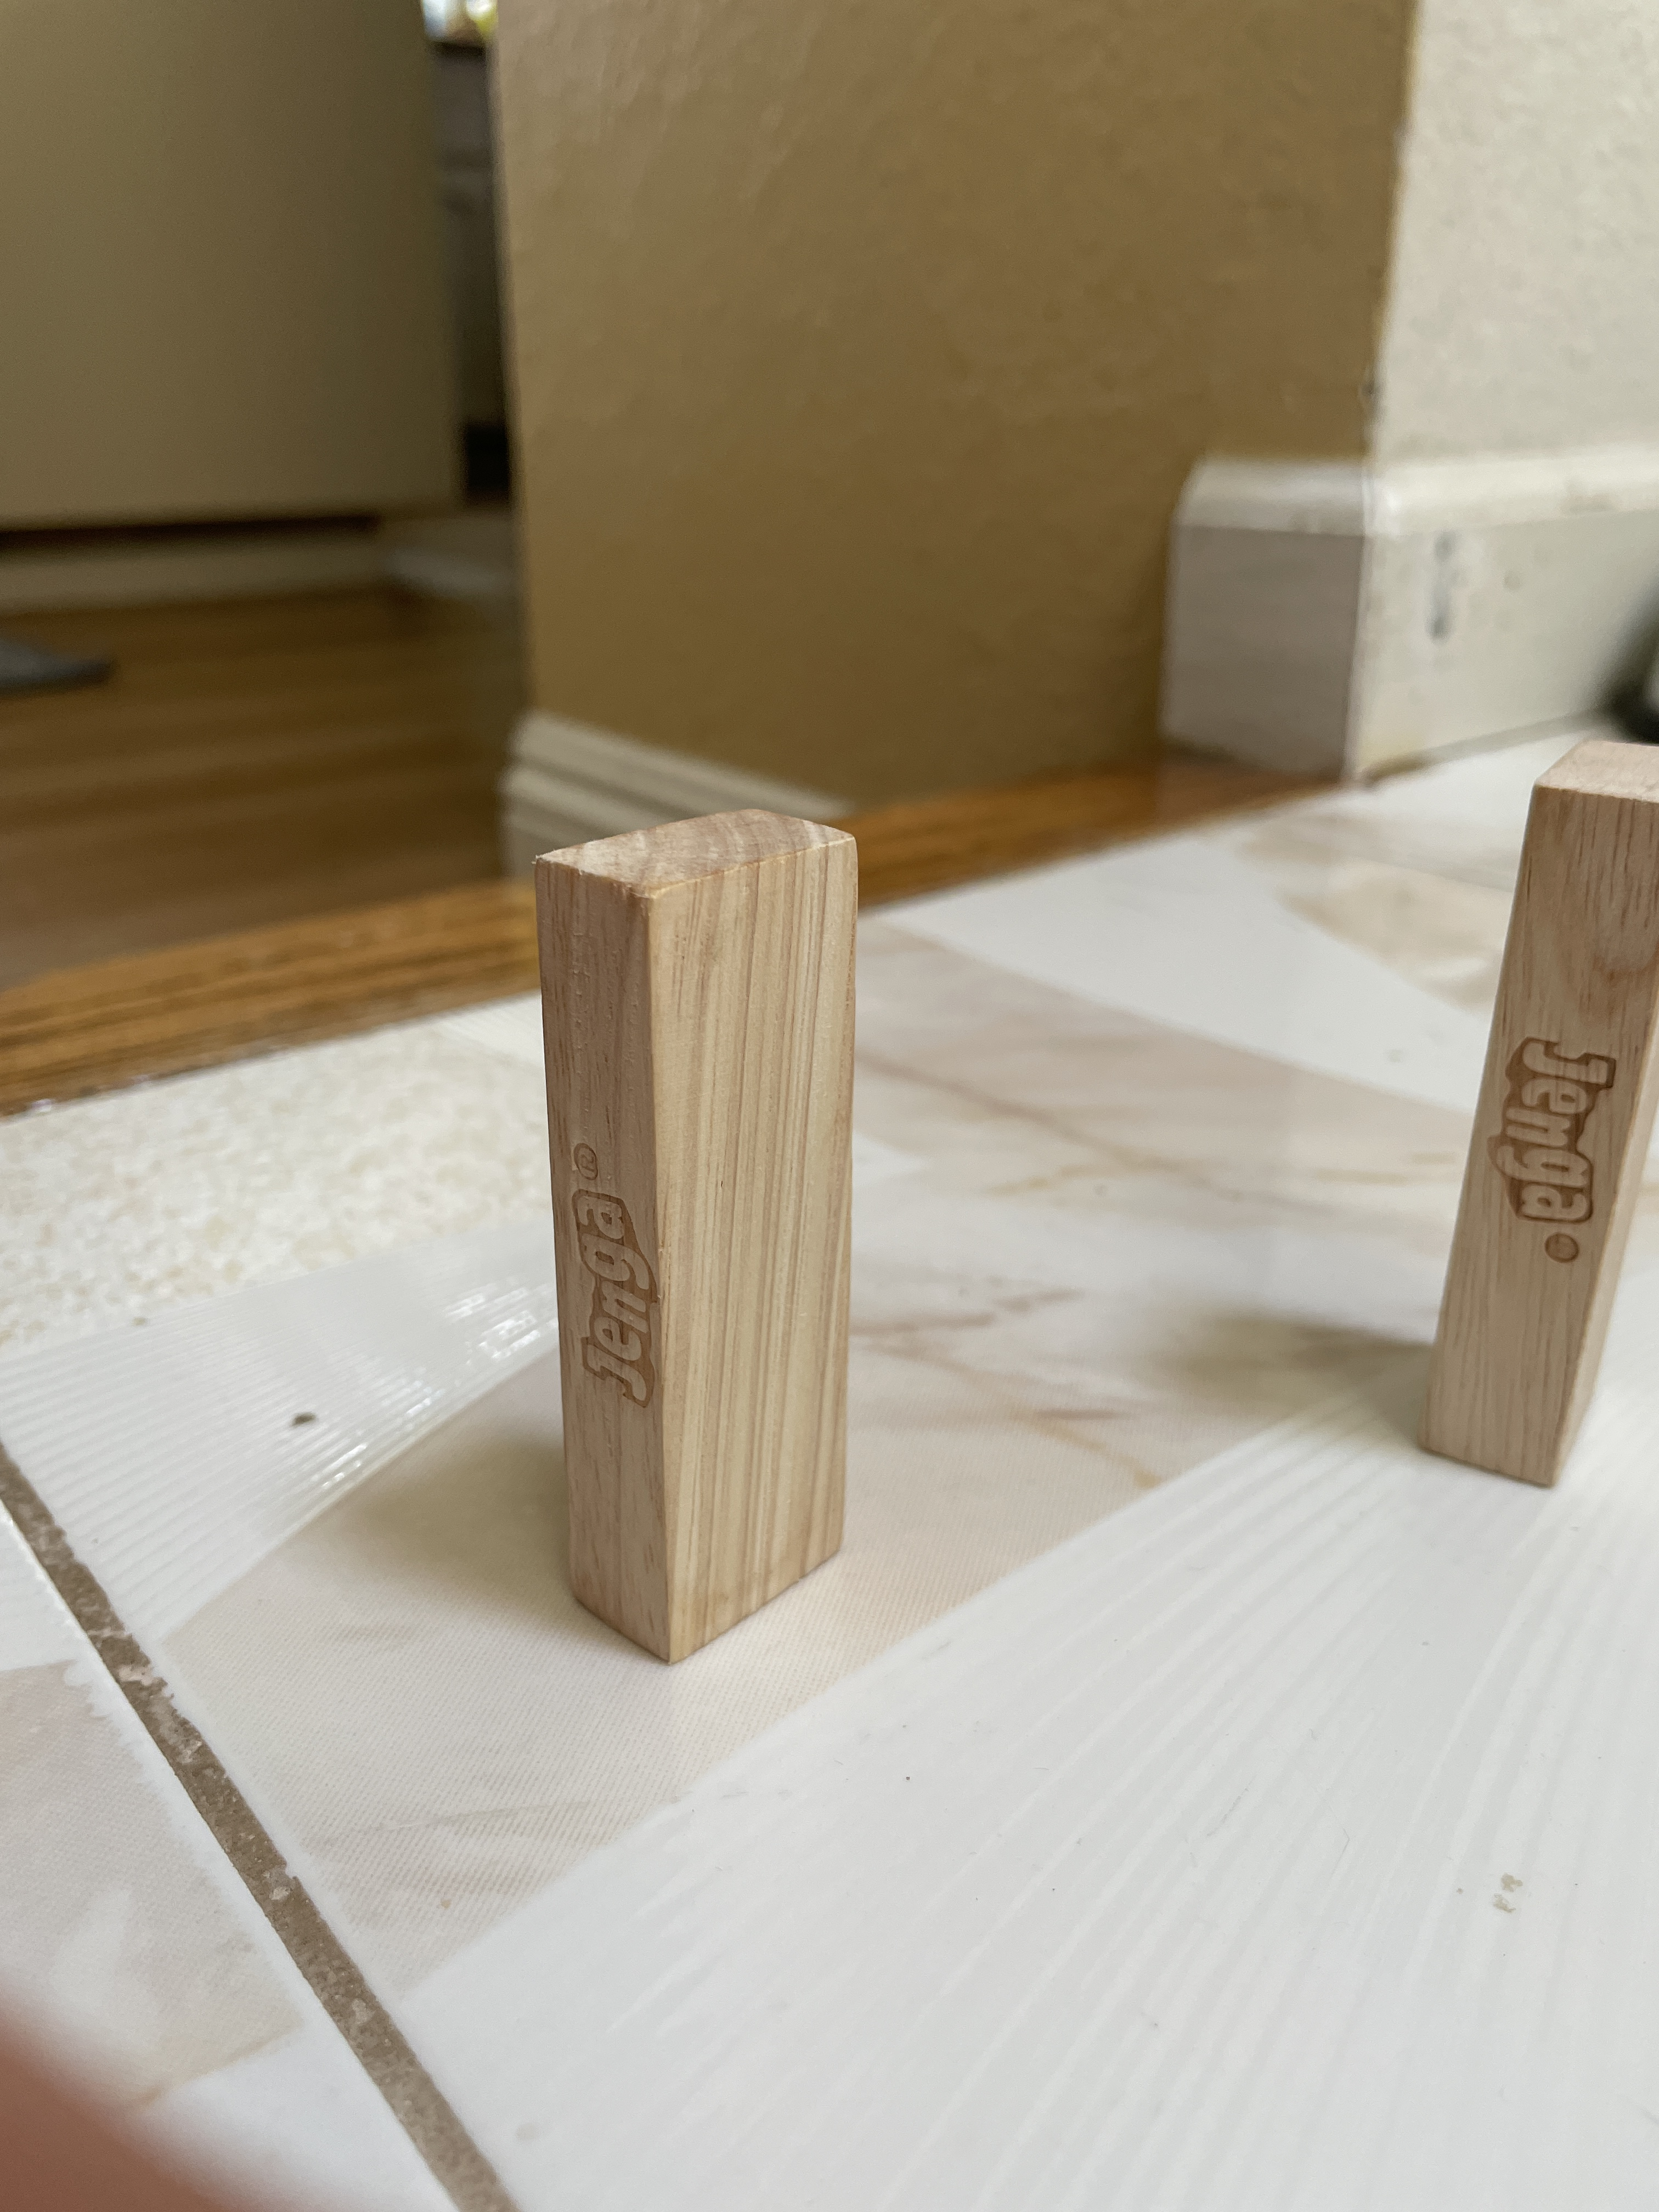jenga: (484, 826, 884, 1641), (1415, 740, 1659, 1507)
